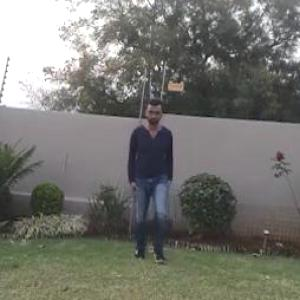follow: (131, 91, 190, 278)
